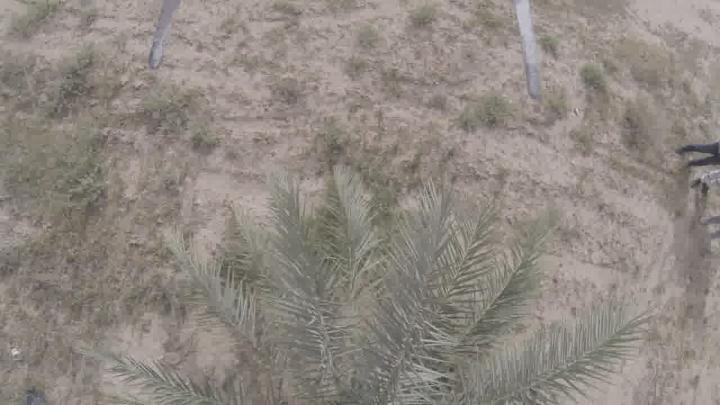Date-Palm-Crown: (236, 268, 524, 404)
